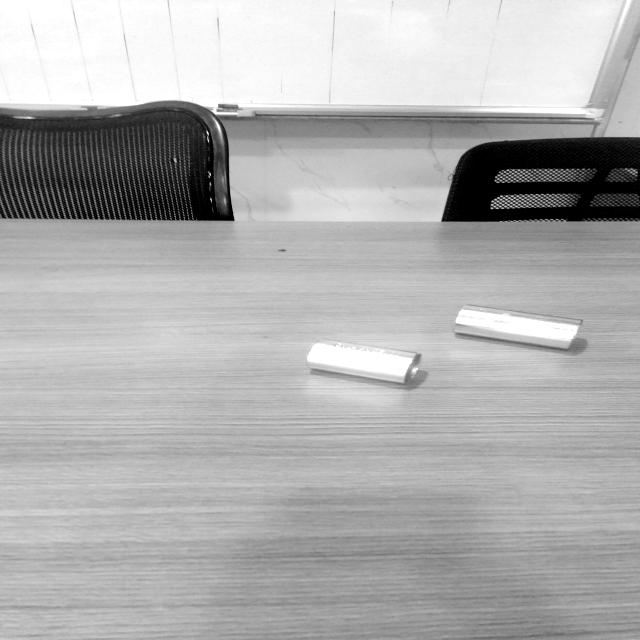Co_Lon: (454, 304, 582, 352)
Co_Nho: (305, 336, 421, 387)
